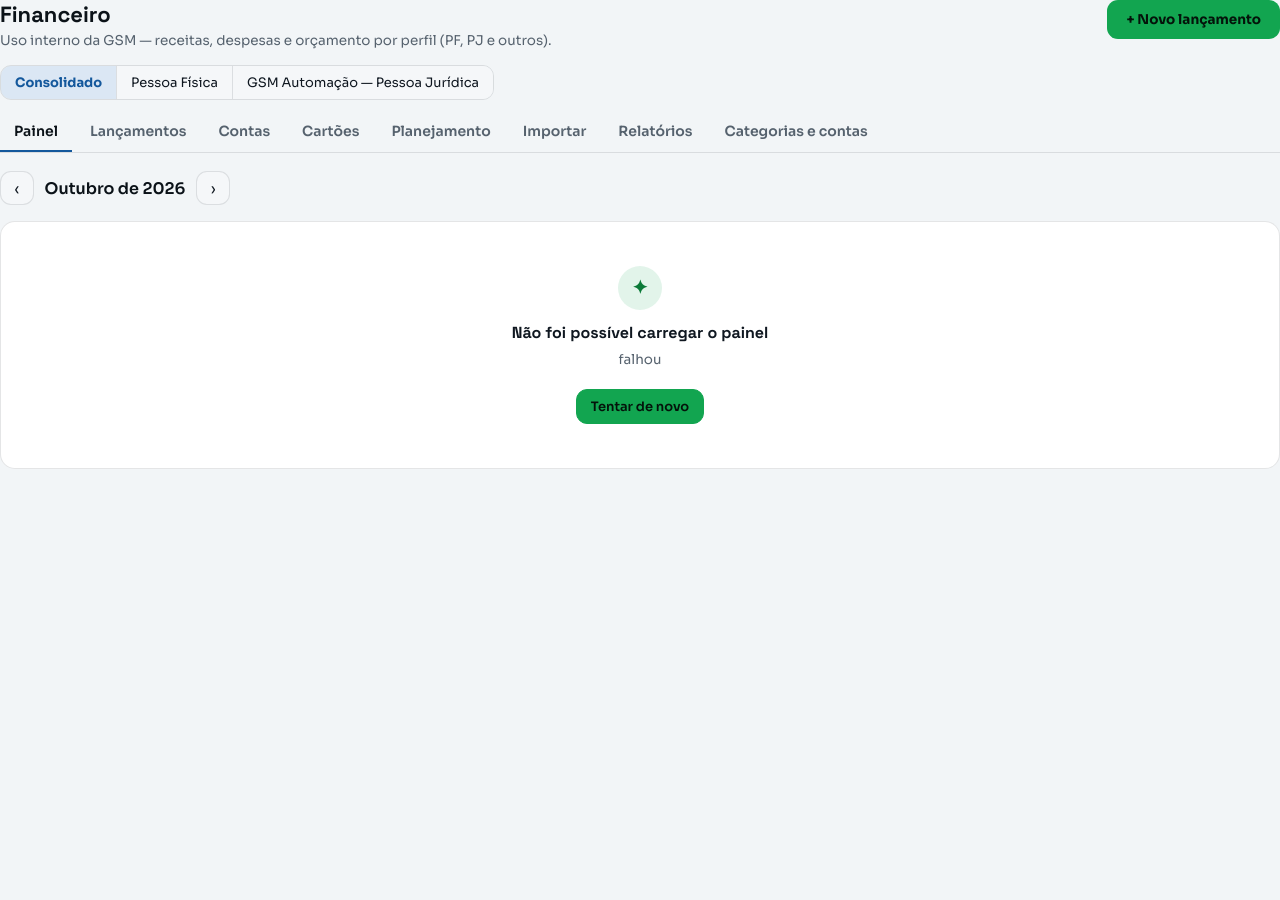
Test: Painel › erro do servidor vira mensagem com 'Tentar de novo'
Expected: the text "Não foi possível carregar o painel" is shown, [512, 322, 768, 343]
Click the button "Tentar de novo": click(640, 406) [576, 389, 704, 424]
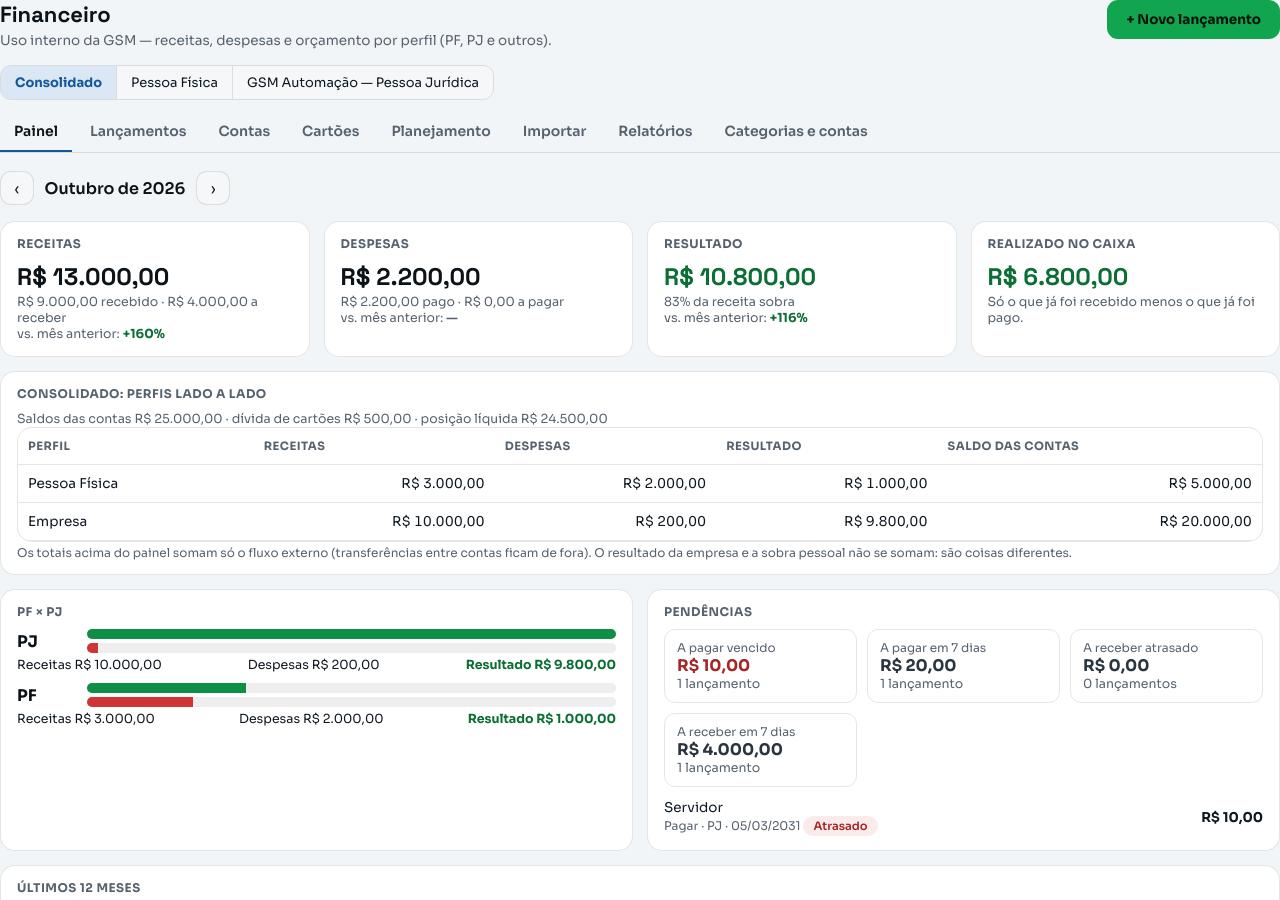
Expected: the heading "Receitas" is shown, [17, 236, 81, 251]
